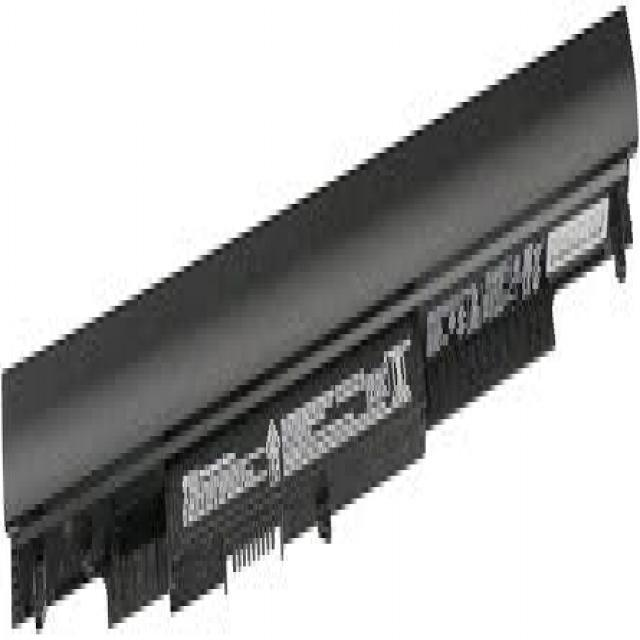battery: (3, 0, 640, 626)
